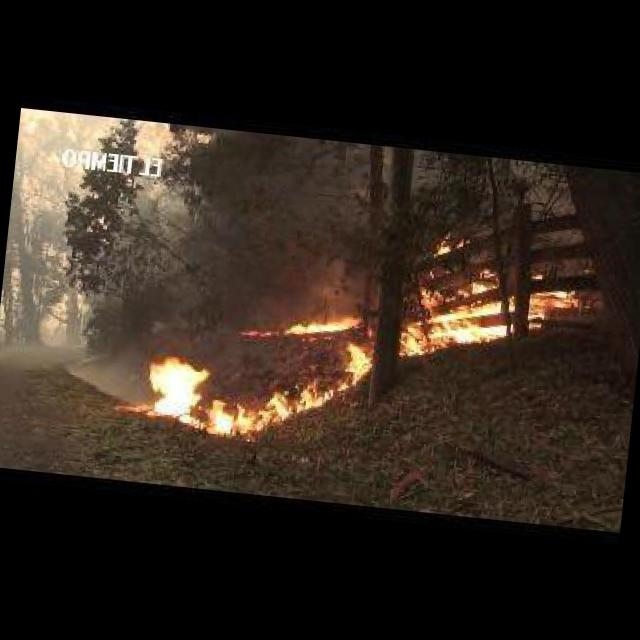Smoke: (137, 322, 379, 450), (396, 257, 518, 366), (528, 284, 580, 331), (284, 308, 358, 339), (432, 228, 452, 258), (238, 324, 275, 339)
